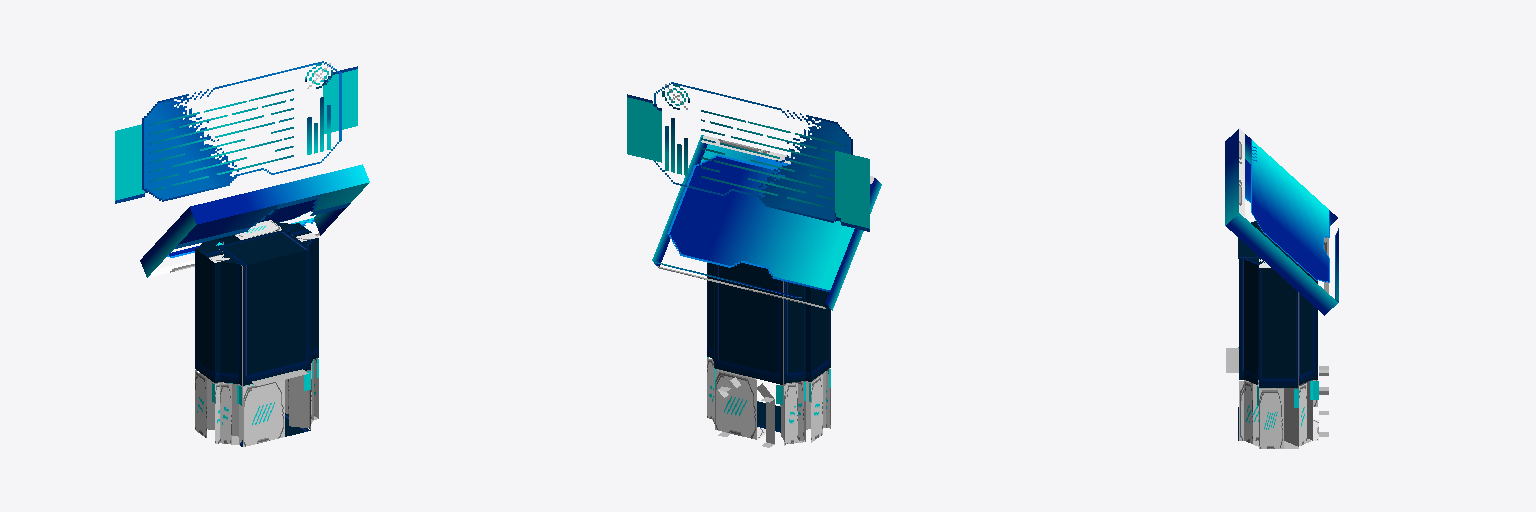
3 views of the same model, side by side, from view 1: azimuth 30°, elevation 25°; view 2: azimuth 150°, elevation 25°; view 3: azimuth 270°, elevation 25° (orthographic).
Visible parts, largest first — view 1: cube, cubeholoscreen; view 2: cube, cubeholoscreen, cubefrontline; view 3: cube.
Boxes of the visible parts, box(x1,y1,x2,y2) form: cube: box(140, 164, 369, 446); cubeholoscreen: box(115, 61, 357, 203); cube: box(652, 135, 881, 445); cubeholoscreen: box(627, 82, 869, 231); cubefrontline: box(718, 377, 774, 447); cube: box(1225, 128, 1338, 448).
Bounding box in the file's own units: 1.75 × 2.31 × 0.7317.
Materials: 2 (1 with a texture image).